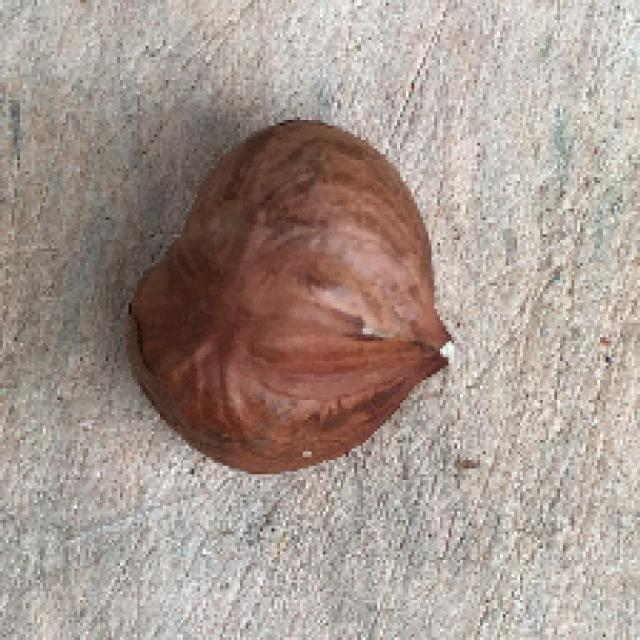hazelnut: (110, 99, 464, 477)
